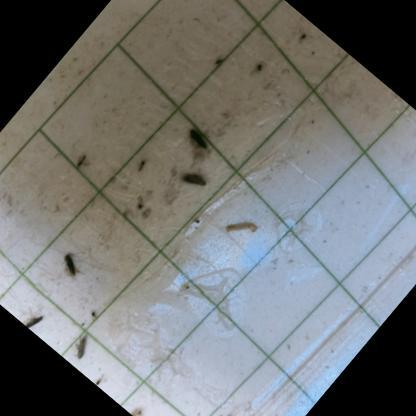prays_oleae: (169, 163, 216, 211), (177, 119, 219, 160), (52, 242, 93, 284), (65, 331, 100, 367), (18, 300, 52, 334), (215, 406, 244, 416)
